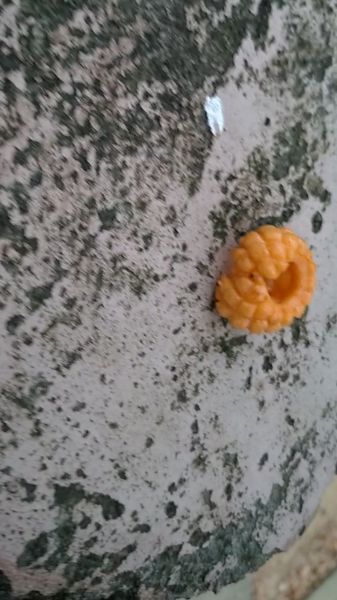eggs: (205, 216, 323, 332)
